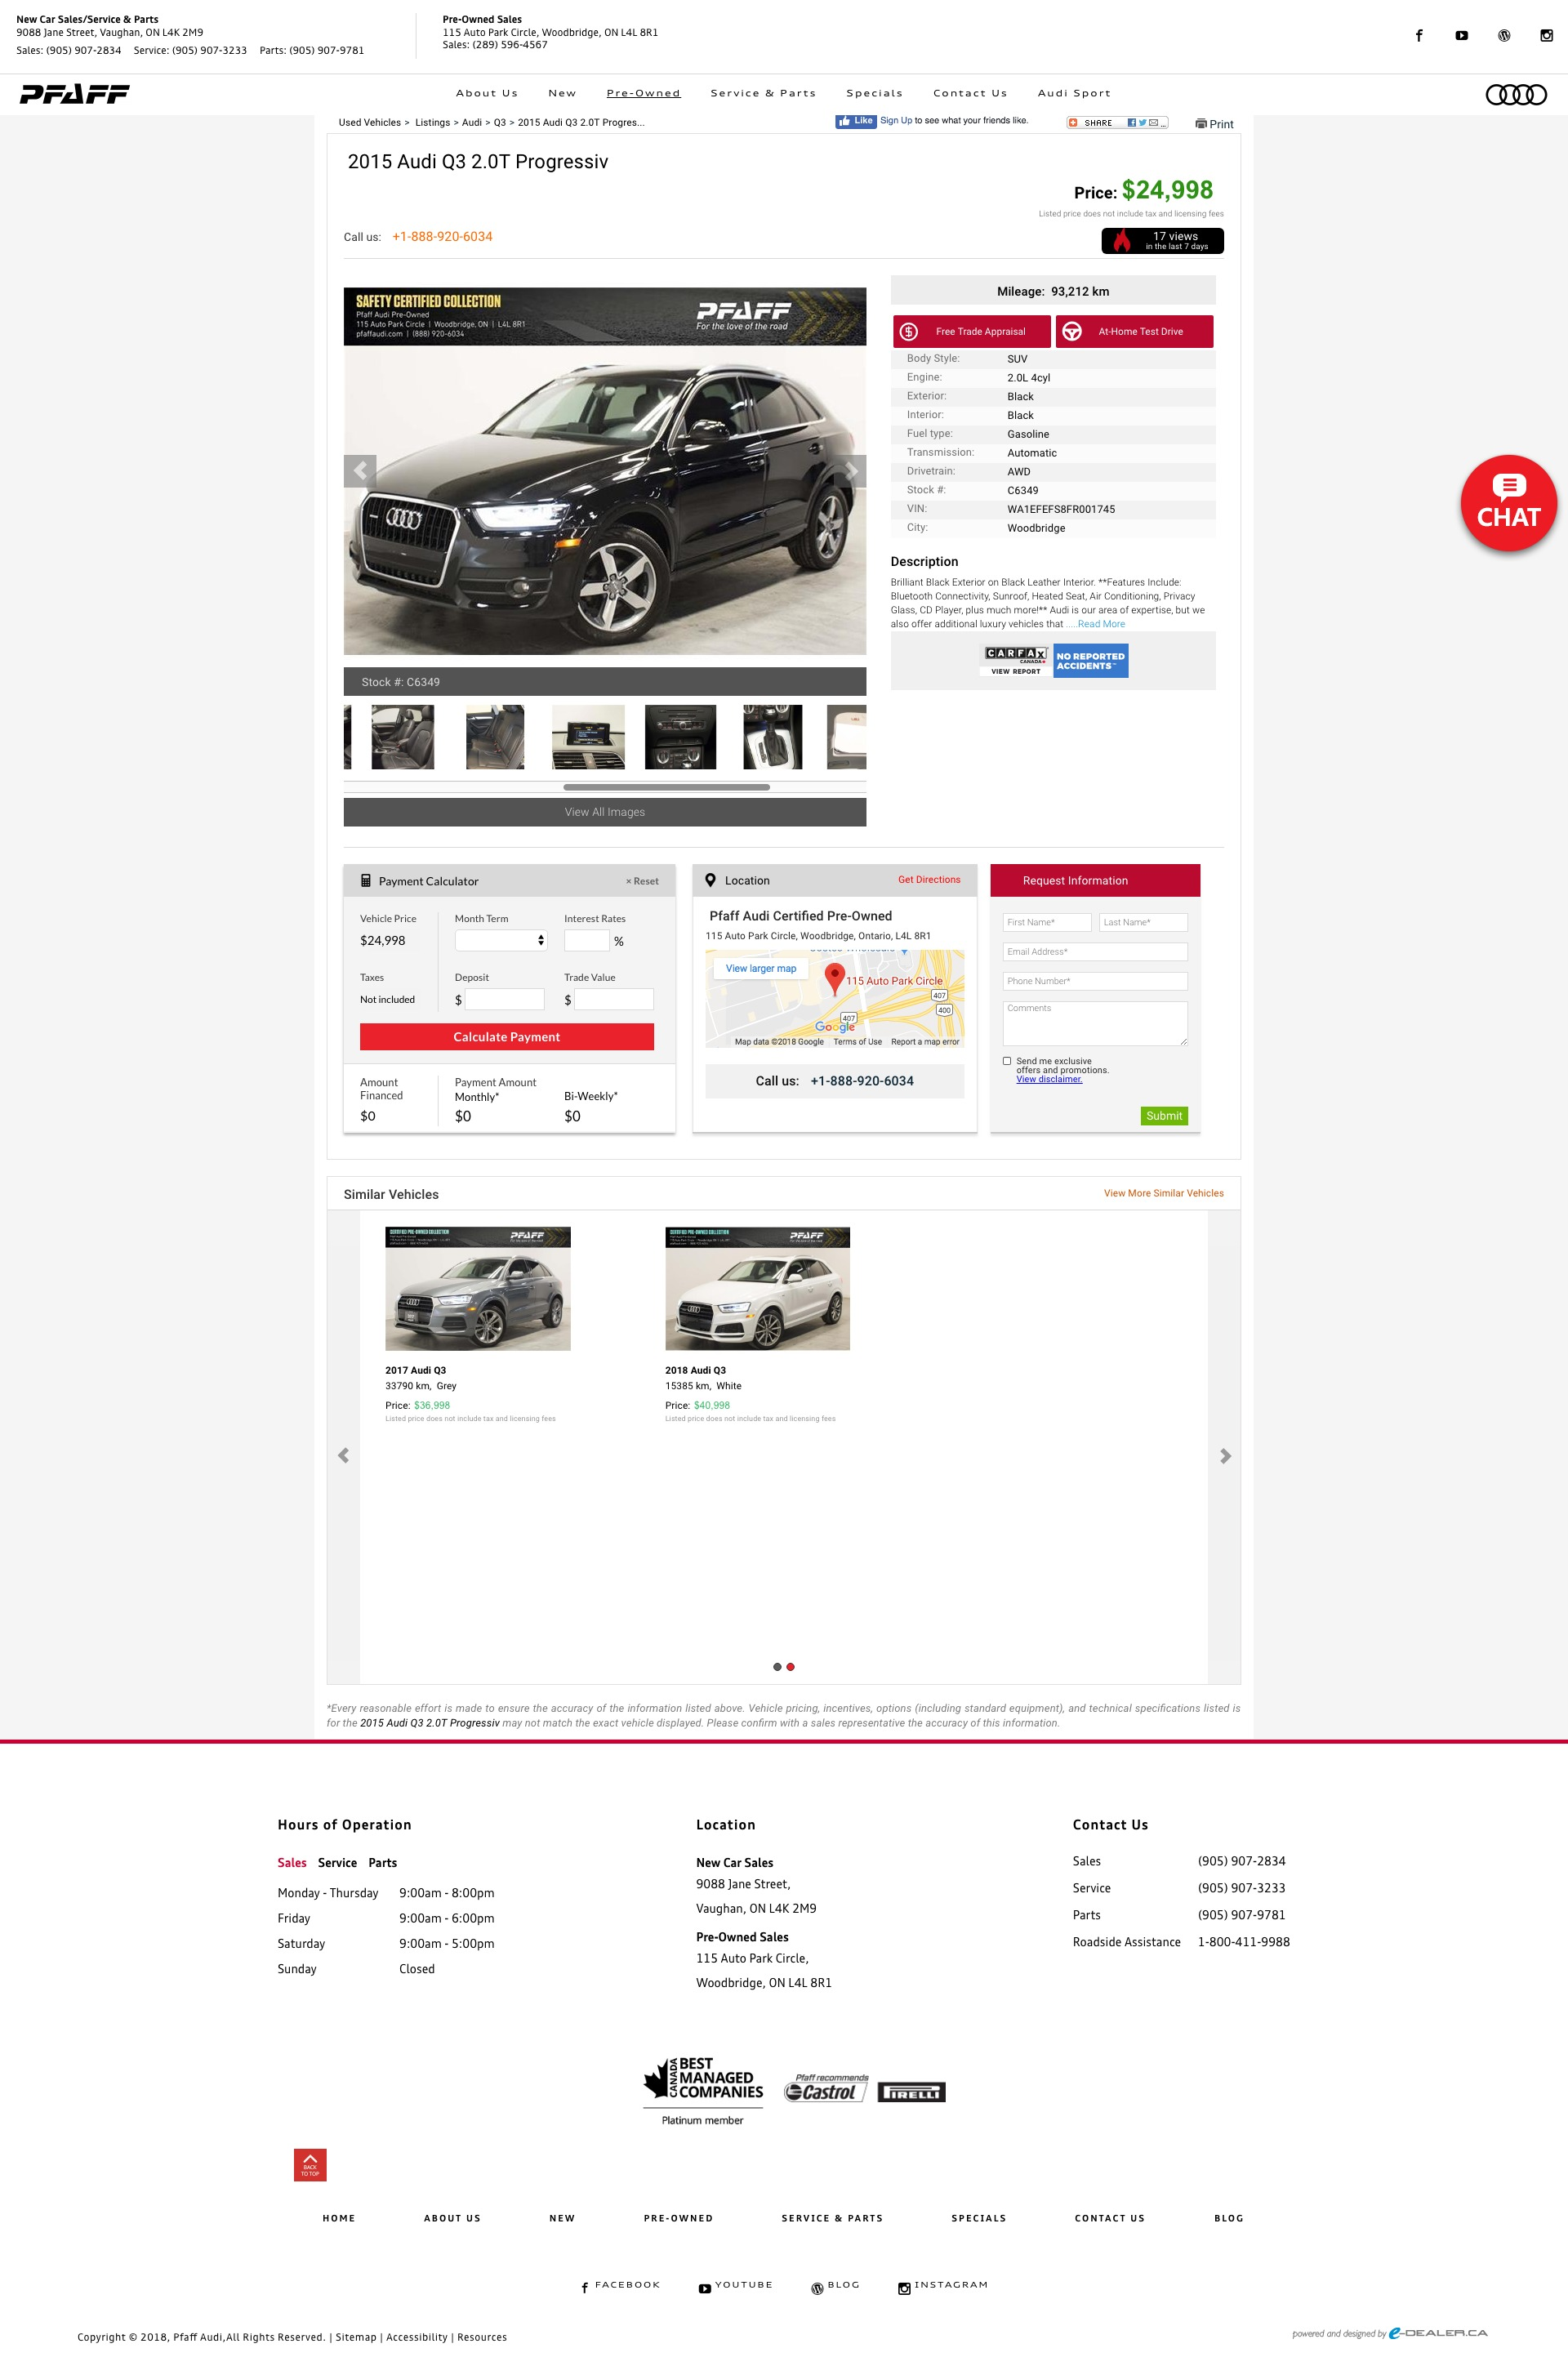car: (845, 462, 859, 483)
